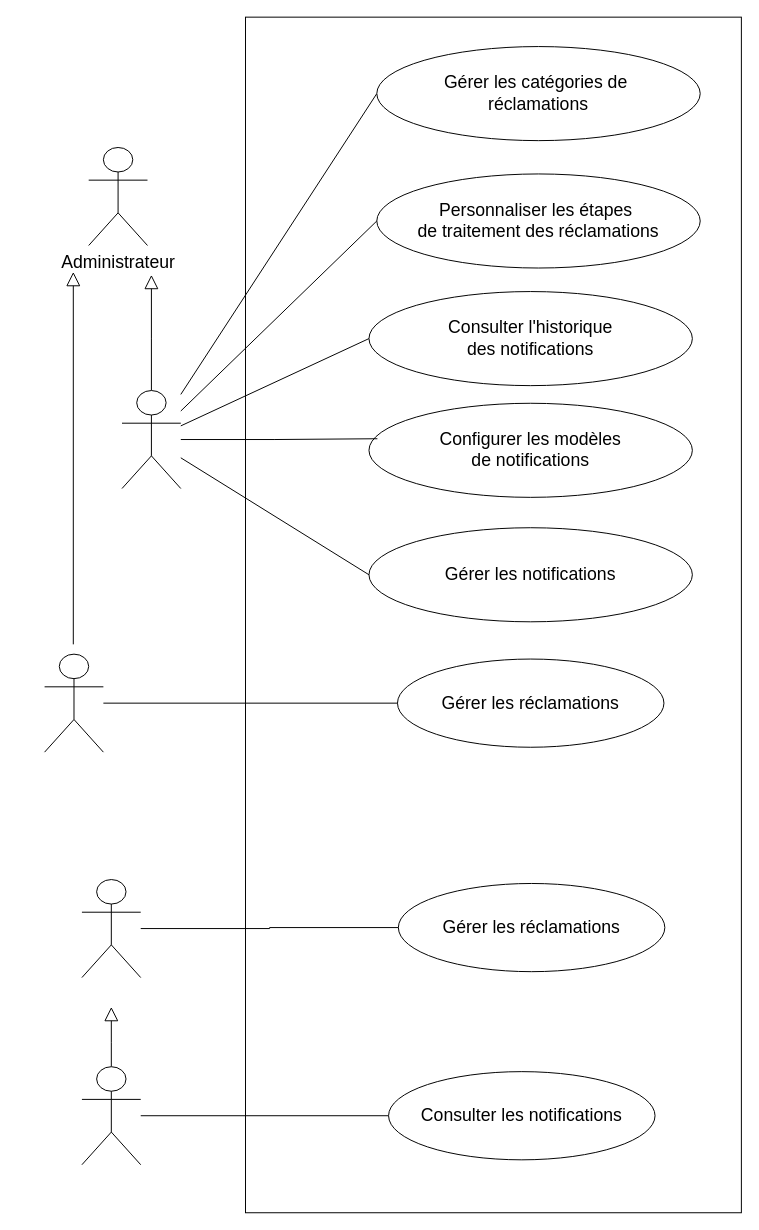
Image size: 759x1230. Some labels were removed from this diagram. The shapes that lost their labels are listed below. From the top down, each one's centre as x and y in pixels, then its label:
At point (151, 439): "Administrateur Système".
At point (73, 702): "Administrateur institutionnel".
At point (111, 928): "Internaute".
At point (111, 1115): "Client".
